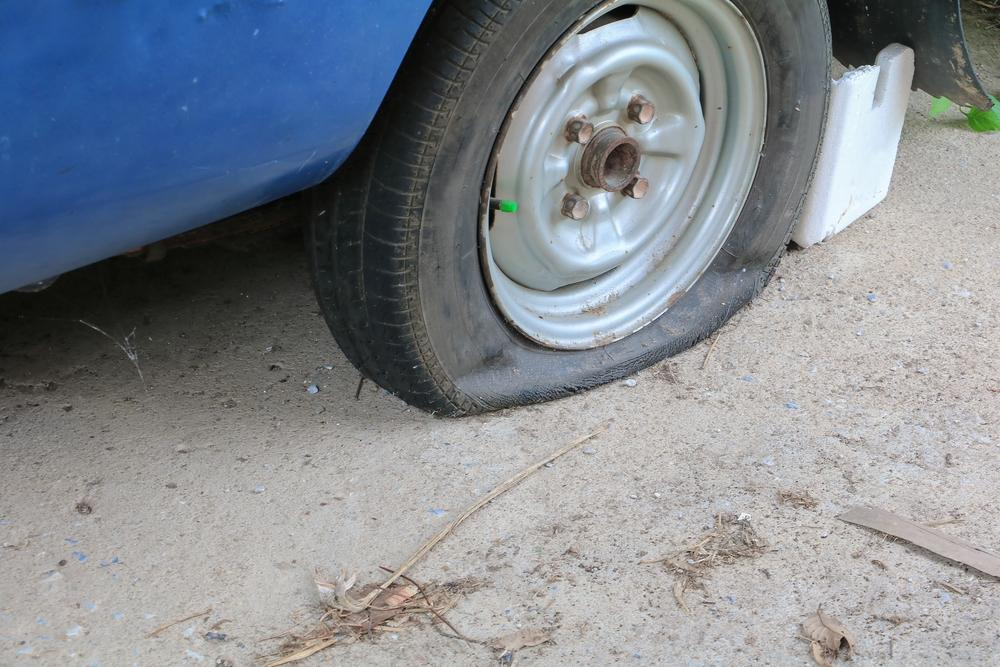tire flat: (310, 0, 834, 419)
